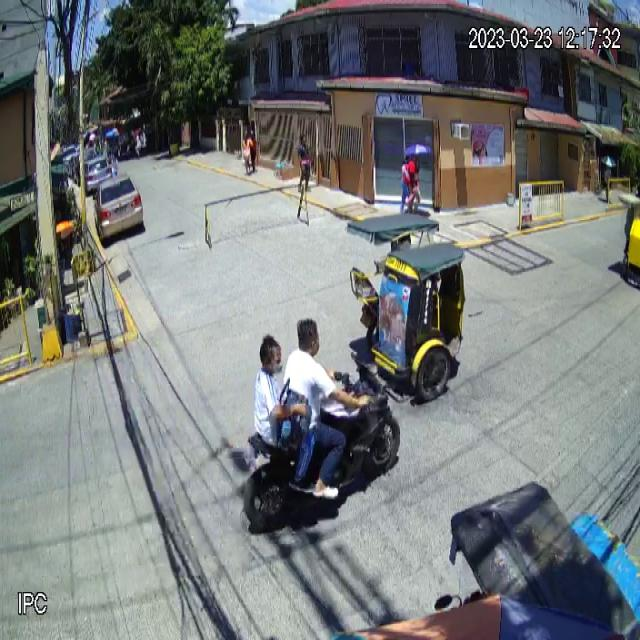Car: (94, 172, 144, 244)
Motorcycle: (238, 352, 404, 529)
Tricycle: (346, 213, 466, 398)
